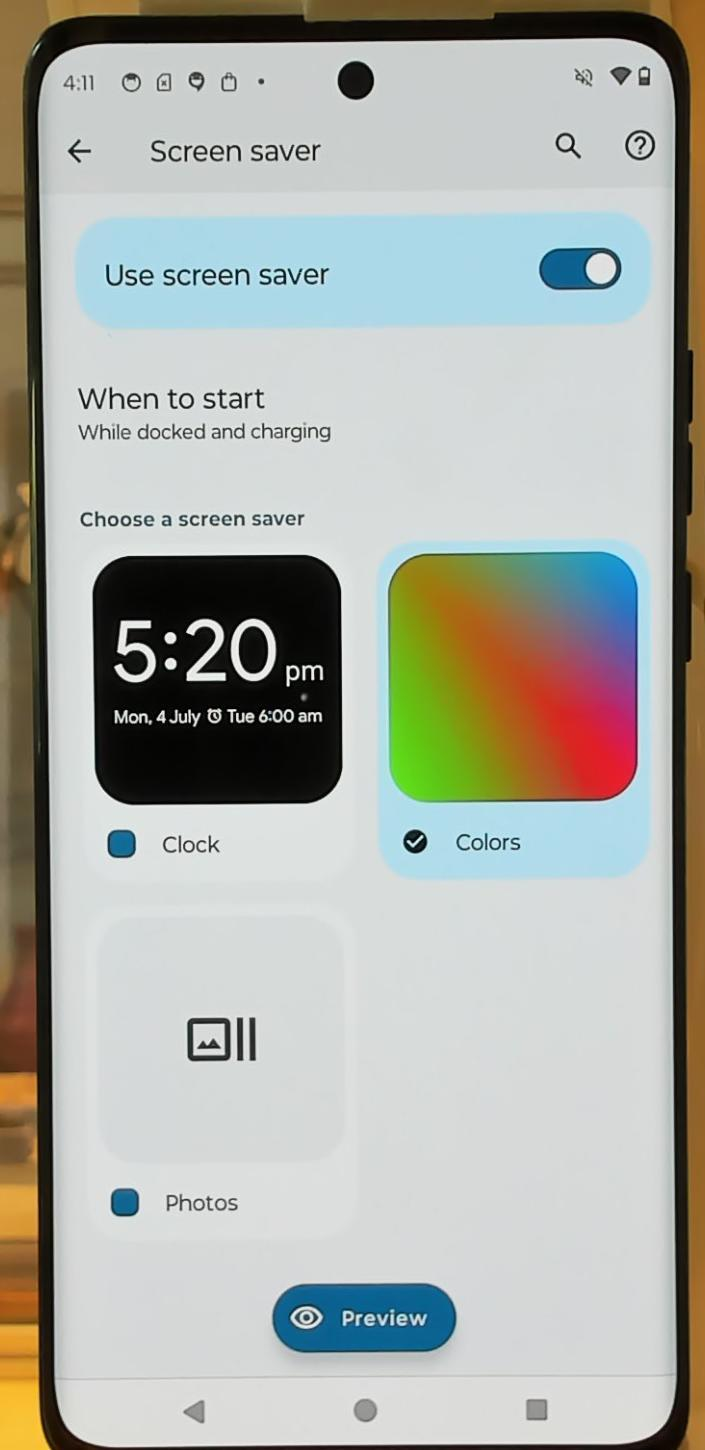Checkbox: (88, 238, 626, 299)
